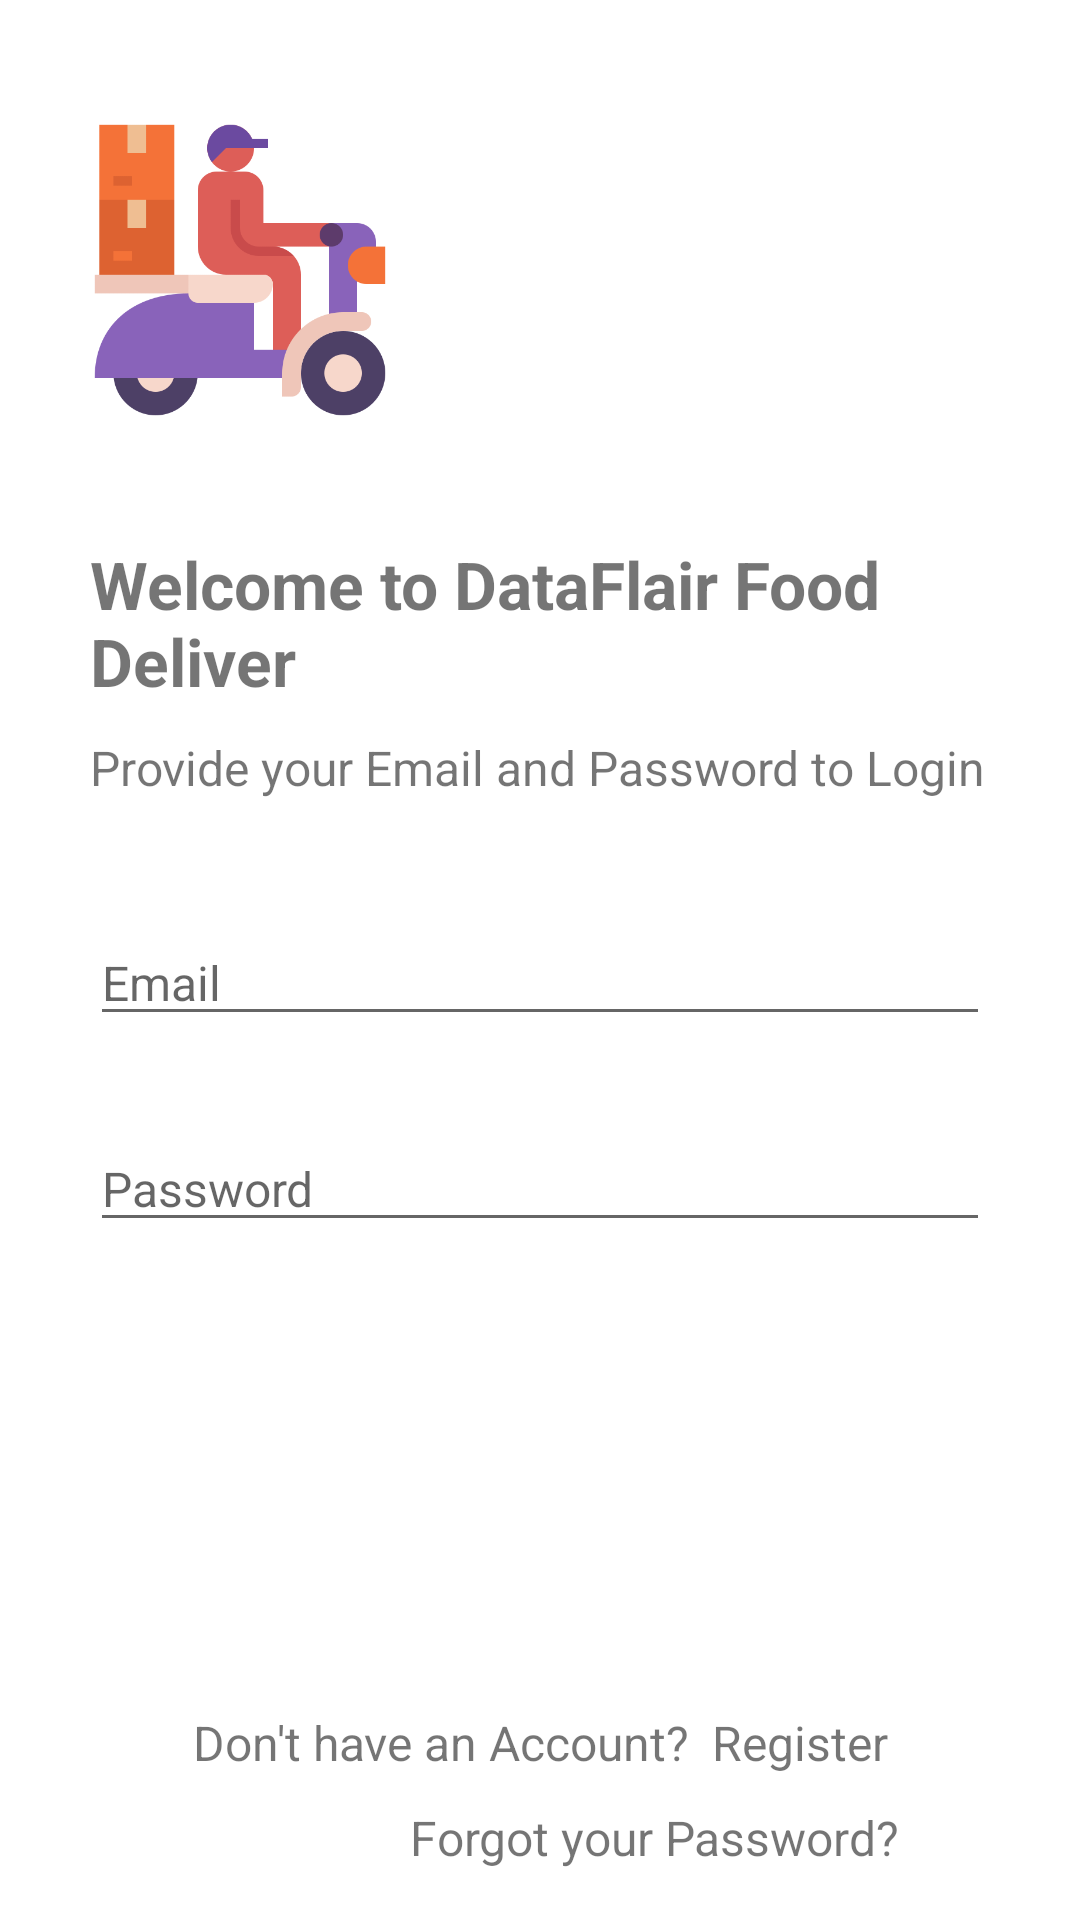

Named icons in this screenshot (1080 × 1920) and their centers, (x,y):
delivery: (240,270)
